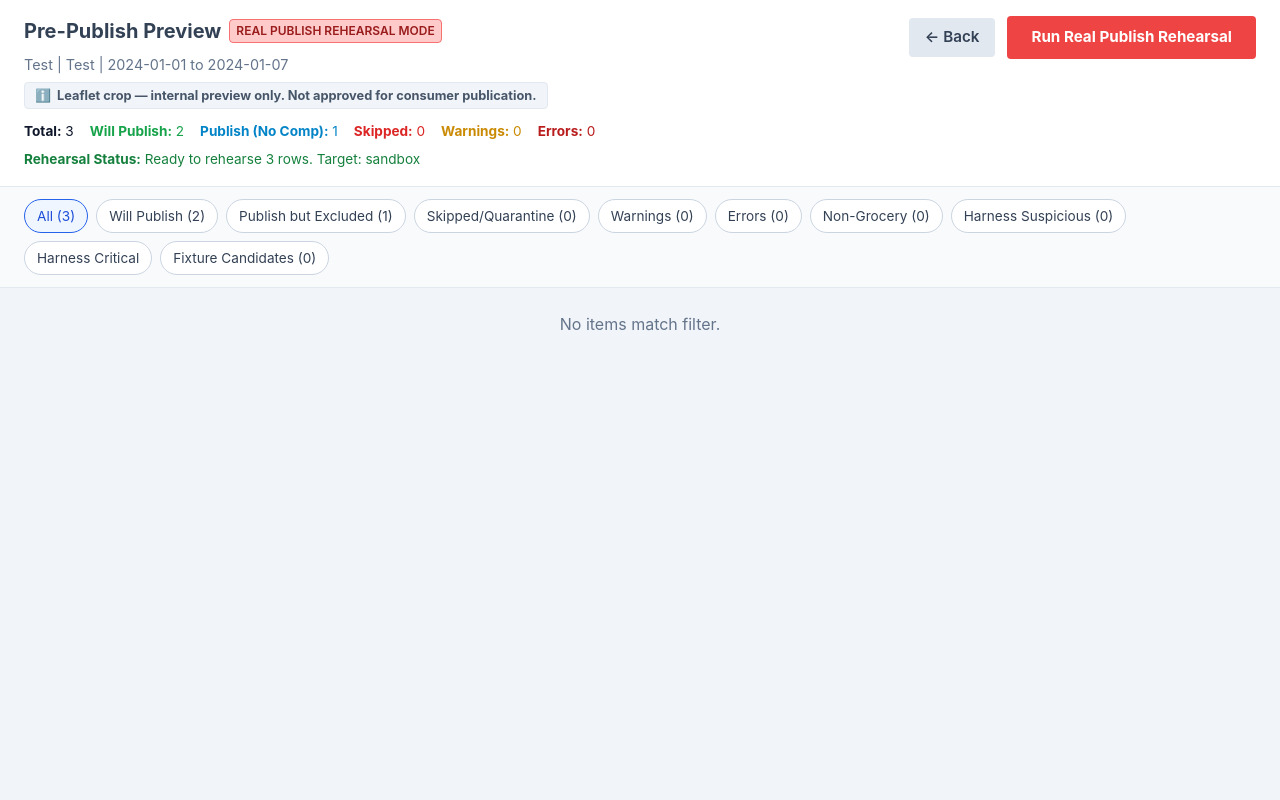
Test: RealPublishRehearsal in PrePublishPreview › enables rehearsal publish if gates pass and typed confirmation matches
This screenshot has width=1280, height=800.
Expected: the text "Ready to rehearse 3 rows. Target: sandbox" is shown, [145, 151, 420, 167]
Click the button "Run Real Publish Rehearsal" at (1132, 37), box [1007, 16, 1256, 59]
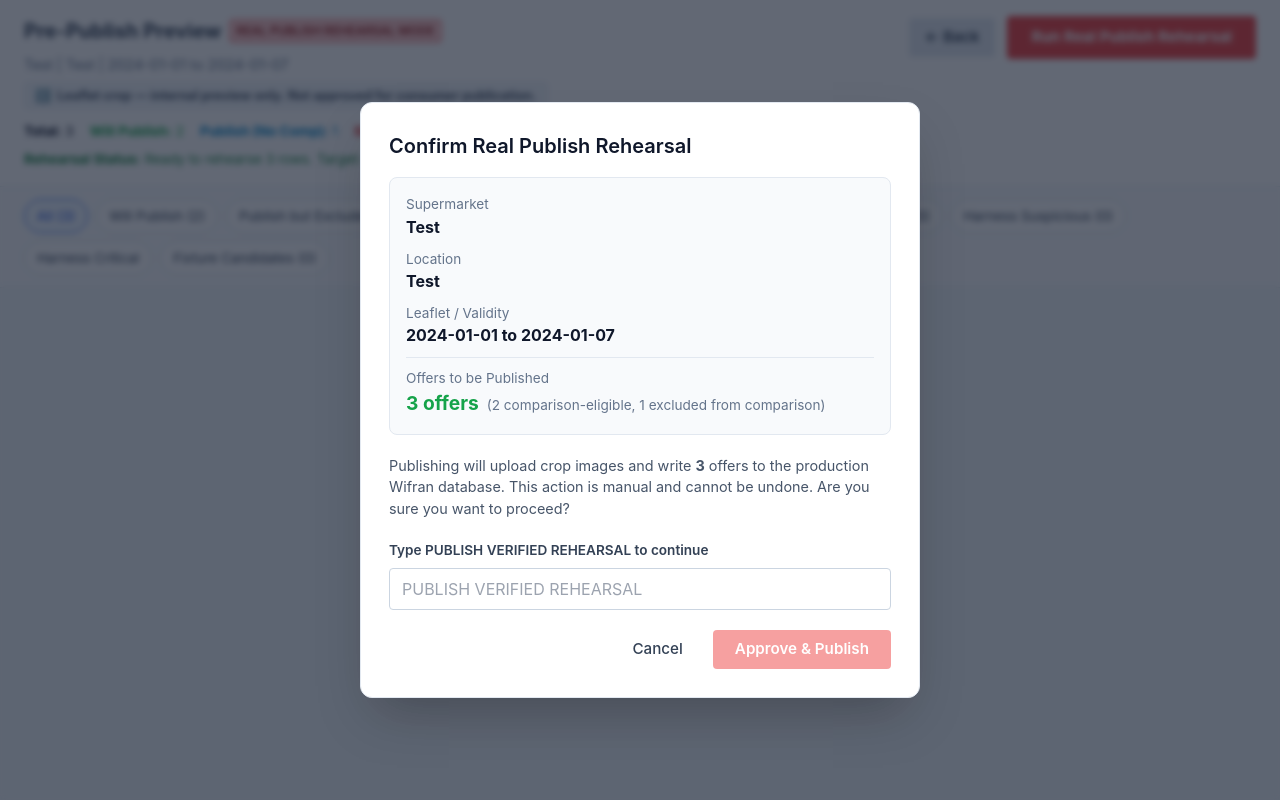
Expected: the button "Approve & Publish" is disabled, [713, 630, 891, 669]
Type "WRONG" into the field with placeholder "PUBLISH VERIFIED REHEARSAL" at (640, 589), box [389, 568, 891, 610]
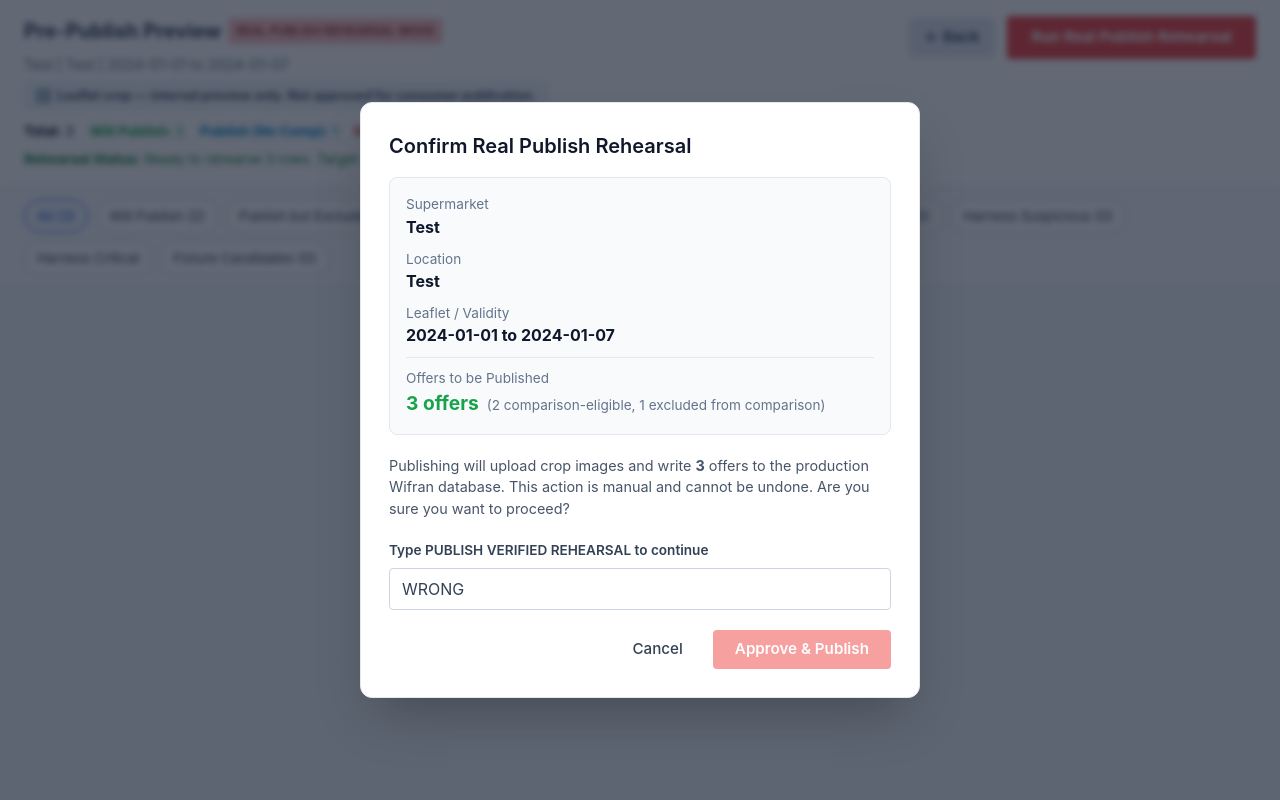
Expected: the button "Approve & Publish" is disabled, [713, 630, 891, 669]
Replace the text in the field with placeholder "PUBLISH VERIFIED REHEARSAL" with "PUBLISH VERIFIED REHEARSAL" at (640, 589), box [389, 568, 891, 610]
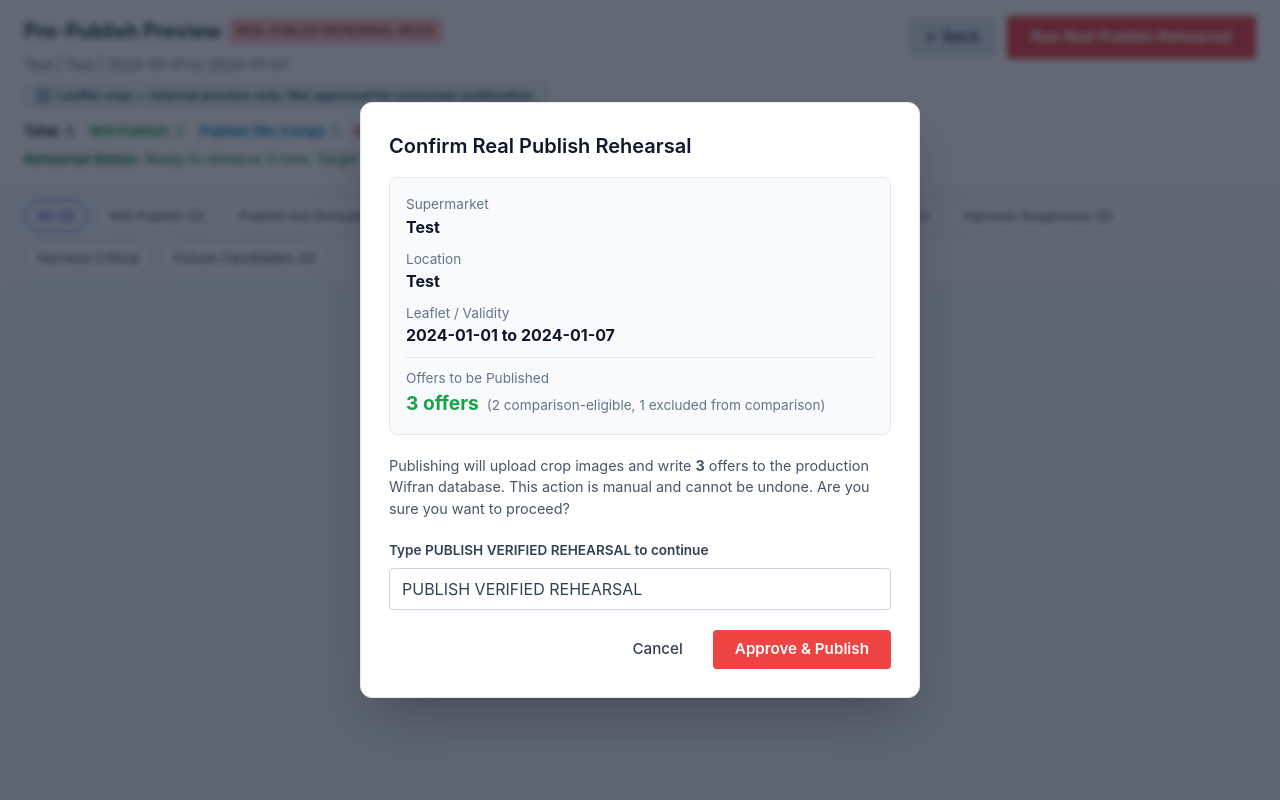
Expected: the button "Approve & Publish" is enabled, [713, 630, 891, 669]
